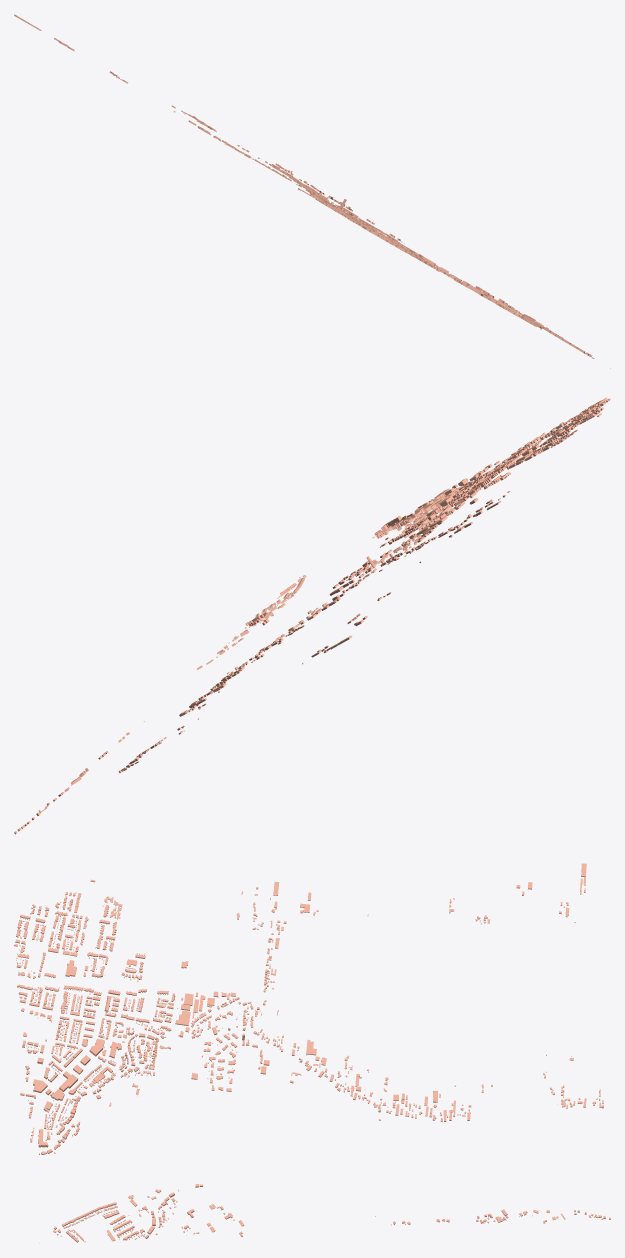
The picture shows the model from 3 angles, top to bottom: view 1: azimuth 30°, elevation 25°; view 2: azimuth 150°, elevation 25°; view 3: azimuth 270°, elevation 25°; orthographic projection. The views are drawn at different scales.
Bounding box in the file's own units: 1515 × 1043 × 2479.
